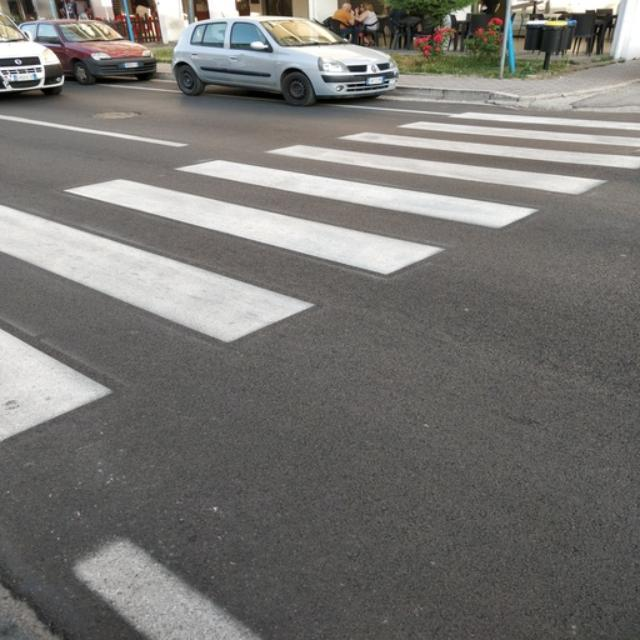sidewalk: (2, 108, 638, 446)
